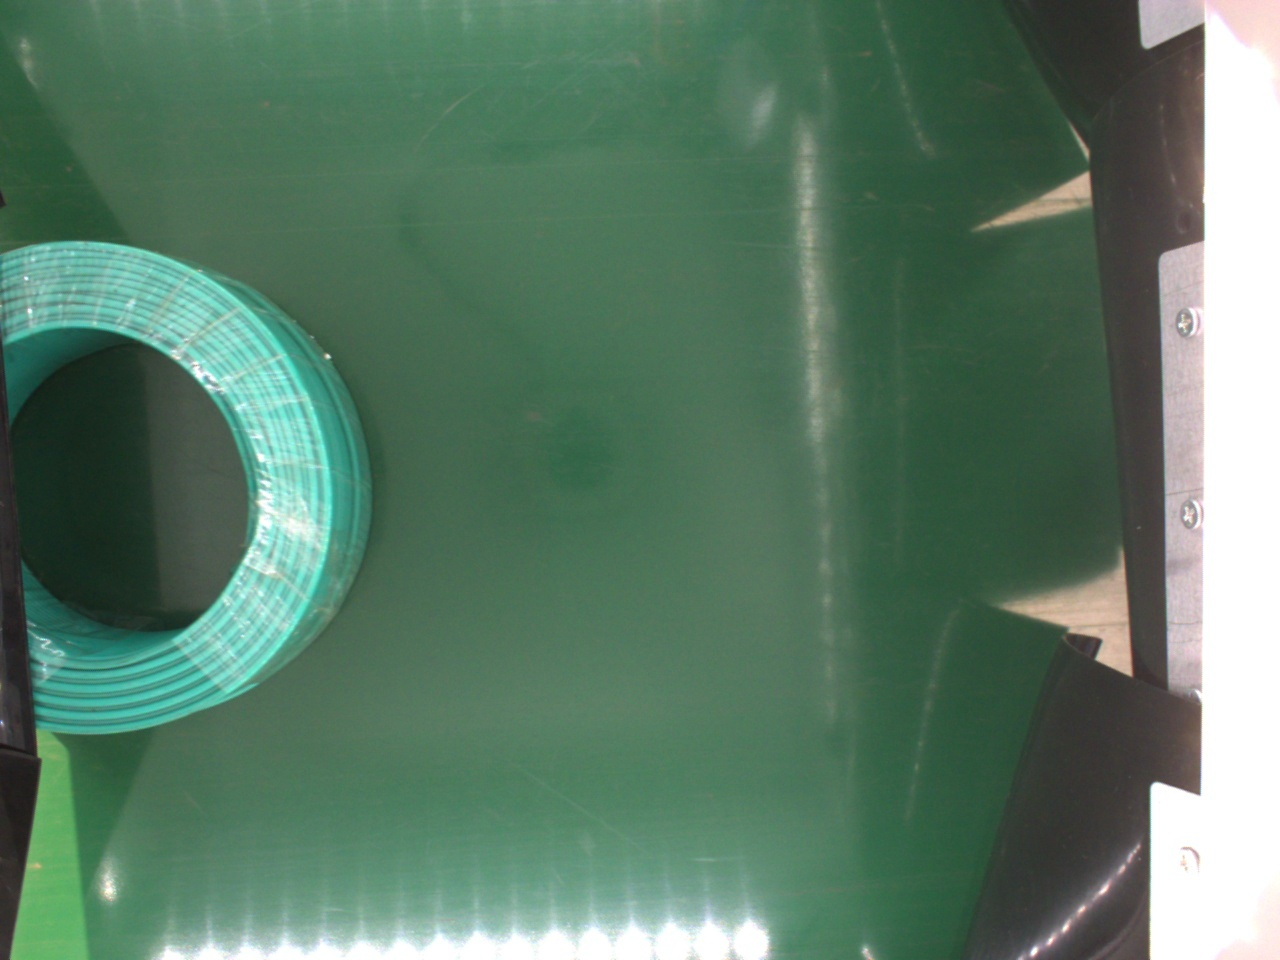green: (2, 240, 371, 737)
